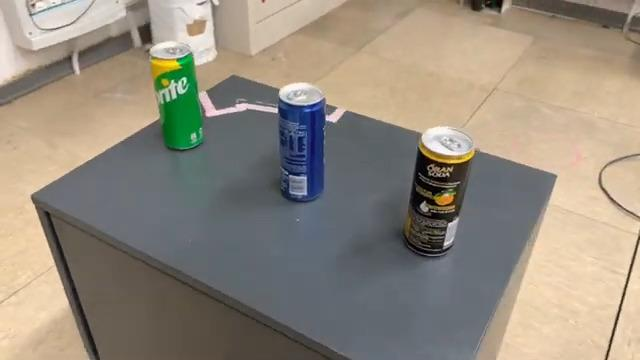OranSoda: (399, 122, 476, 262)
Pepsi: (274, 79, 328, 206)
Sprite: (146, 38, 208, 154)
